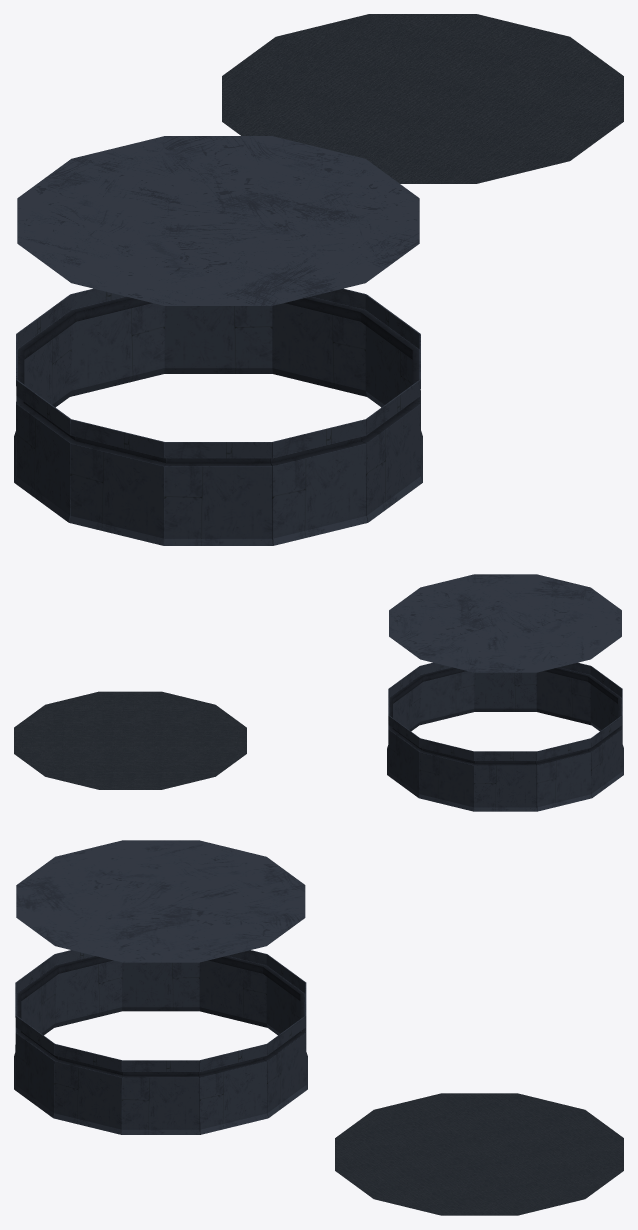
File: Wall-26-03.fbx
3 renders of one model, top to bottom at view 1: azimuth 30°, elevation 25°; view 2: azimuth 150°, elevation 25°; view 3: azimuth 270°, elevation 25°, orthographic. The views are drawn at different scales.
Visible parts, largest first — view 1: Circle.006, Circle.030, Circle.009; view 2: Circle.006, Circle.009, Circle.030; view 3: Circle.006, Circle.030, Circle.009.
Part boxes in pixels (x1=…): Circle.006: x1=14, y1=288, x2=422, y2=545; Circle.030: x1=17, y1=136, x2=419, y2=305; Circle.009: x1=222, y1=14, x2=623, y2=183; Circle.006: x1=387, y1=662, x2=623, y2=811; Circle.009: x1=14, y1=691, x2=246, y2=789; Circle.030: x1=389, y1=574, x2=621, y2=672; Circle.006: x1=14, y1=950, x2=307, y2=1134; Circle.030: x1=16, y1=840, x2=305, y2=962; Circle.009: x1=335, y1=1093, x2=623, y2=1215.
Size of the model in its own units: 3118 by 916 by 2949.
